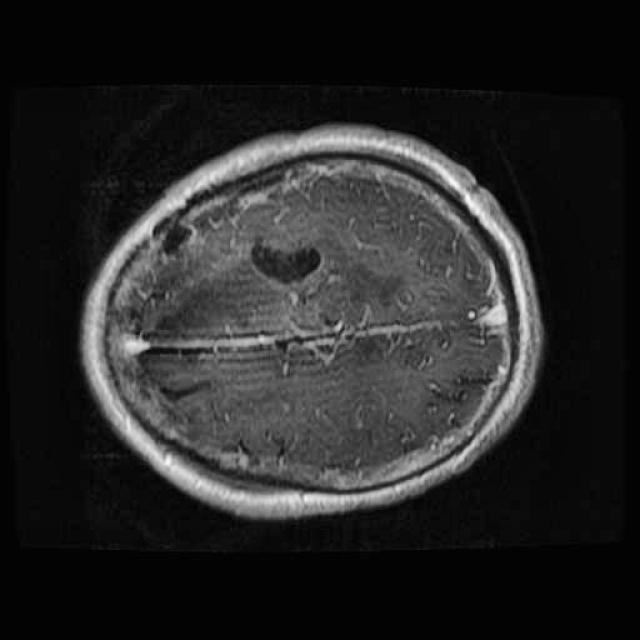Non-Tumor: (232, 231, 342, 299)
